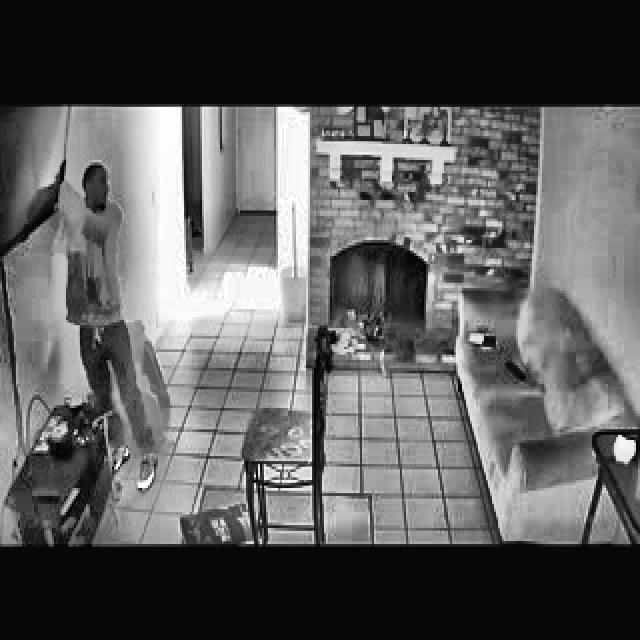burglary: (0, 142, 166, 492)
